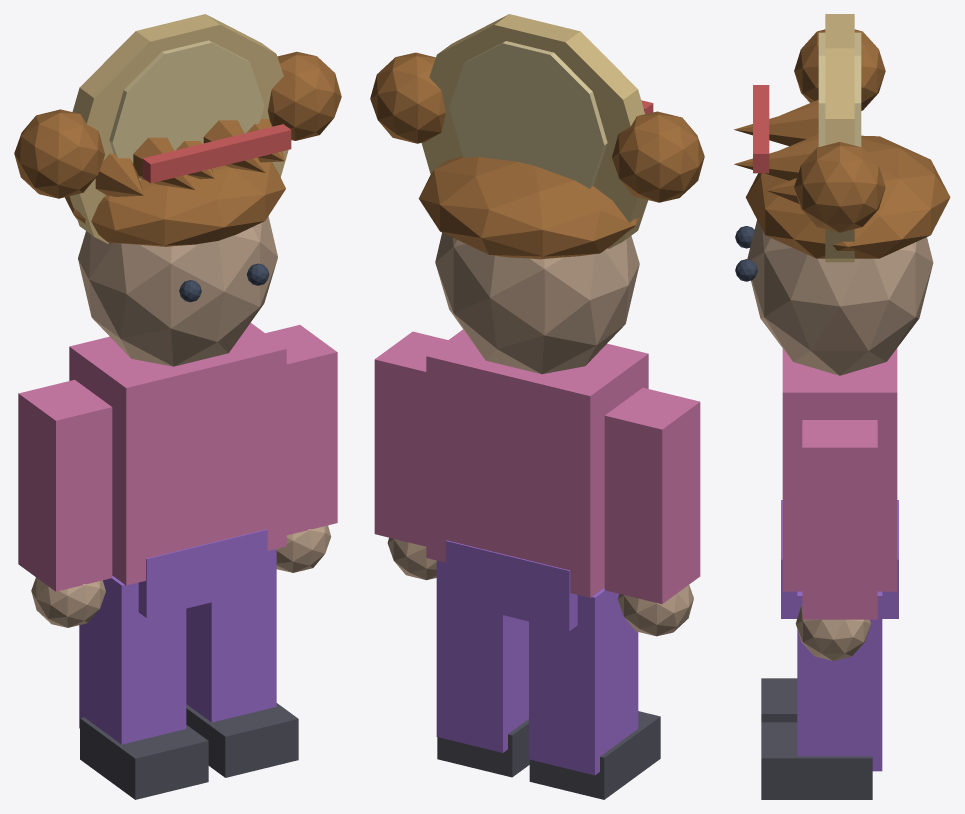
The model's file is chopper.glb.
The picture shows the model from 3 angles, left to right: view 1: azimuth 30°, elevation 25°; view 2: azimuth 150°, elevation 25°; view 3: azimuth 270°, elevation 25°; orthographic projection. The views are drawn at different scales.
Visible parts, largest first — view 1: part_000, part_010, part_002, part_004, part_020, part_008, part_013, part_006, part_019, part_001, part_005, part_022 (+8 smaller); view 2: part_000, part_010, part_002, part_004, part_020, part_013, part_008, part_019, part_006, part_001, part_022, part_023 (+4 smaller); view 3: part_010, part_006, part_000, part_013, part_008, part_023, part_009, part_019, part_022, part_007, part_020, part_005 (+6 smaller).
Part boxes in pixels (bbox=[...]): part_000: bbox=[69, 322, 286, 585]; part_010: bbox=[78, 216, 277, 366]; part_002: bbox=[18, 379, 112, 591]; part_004: bbox=[79, 576, 186, 744]; part_020: bbox=[109, 40, 264, 180]; part_008: bbox=[186, 549, 276, 722]; part_013: bbox=[65, 162, 285, 246]; part_006: bbox=[265, 325, 337, 535]; part_019: bbox=[69, 14, 288, 243]; part_001: bbox=[138, 529, 267, 617]; part_005: bbox=[80, 717, 208, 799]; part_022: bbox=[14, 109, 105, 198]; part_000: bbox=[426, 329, 648, 597]; part_010: bbox=[435, 232, 639, 374]; part_002: bbox=[604, 387, 700, 603]; part_004: bbox=[529, 588, 638, 775]; part_020: bbox=[449, 41, 607, 188]; part_013: bbox=[418, 156, 639, 259]; part_008: bbox=[436, 560, 528, 752]; part_019: bbox=[421, 14, 648, 248]; part_006: bbox=[374, 331, 447, 546]; part_001: bbox=[445, 540, 577, 631]; part_022: bbox=[612, 111, 704, 202]; part_023: bbox=[370, 52, 445, 143]; part_010: bbox=[747, 220, 933, 375]; part_006: bbox=[802, 420, 877, 619]; part_000: bbox=[782, 348, 897, 591]; part_013: bbox=[745, 135, 950, 258]; part_008: bbox=[797, 591, 882, 771]; part_023: bbox=[794, 142, 885, 232]; part_009: bbox=[761, 722, 872, 799]; part_019: bbox=[825, 14, 854, 262]; part_022: bbox=[794, 29, 885, 110]; part_007: bbox=[795, 605, 870, 660]; part_020: bbox=[818, 32, 861, 146]; part_005: bbox=[761, 678, 797, 722].
Bounding box in the file's own units: 0.9744 × 2.14 × 0.5766.
